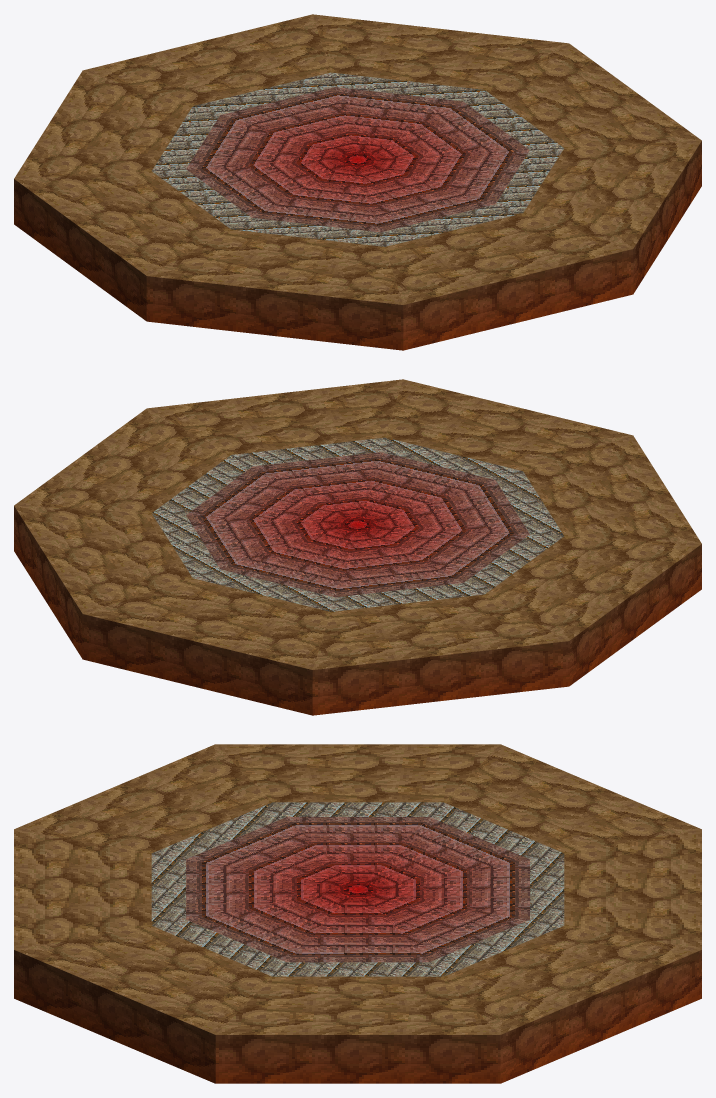
File: kb2_stage.glb
3 renders of one model, top to bottom at view 1: azimuth 30°, elevation 25°; view 2: azimuth 150°, elevation 25°; view 3: azimuth 270°, elevation 25°, orthographic. The views are drawn at different scales.
Parts seen in each view (by area): view 1: kb2_stage; view 2: kb2_stage; view 3: kb2_stage.
Part boxes in pixels (box(x1,y1,x2,y2)): kb2_stage: box(14, 14, 701, 350); kb2_stage: box(14, 379, 701, 715); kb2_stage: box(14, 744, 701, 1083).
Bounding box in the file's own units: 10.83 × 2.93 × 10.83.
Materials: 2 (2 with a texture image).
